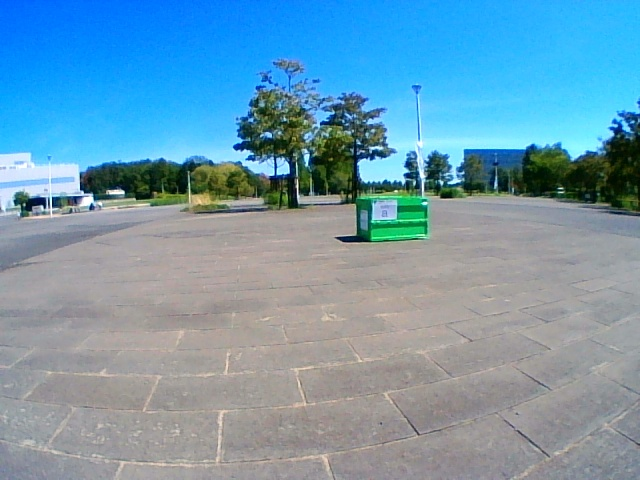green_box: (358, 197, 429, 240)
tag_a: (374, 201, 395, 220)
